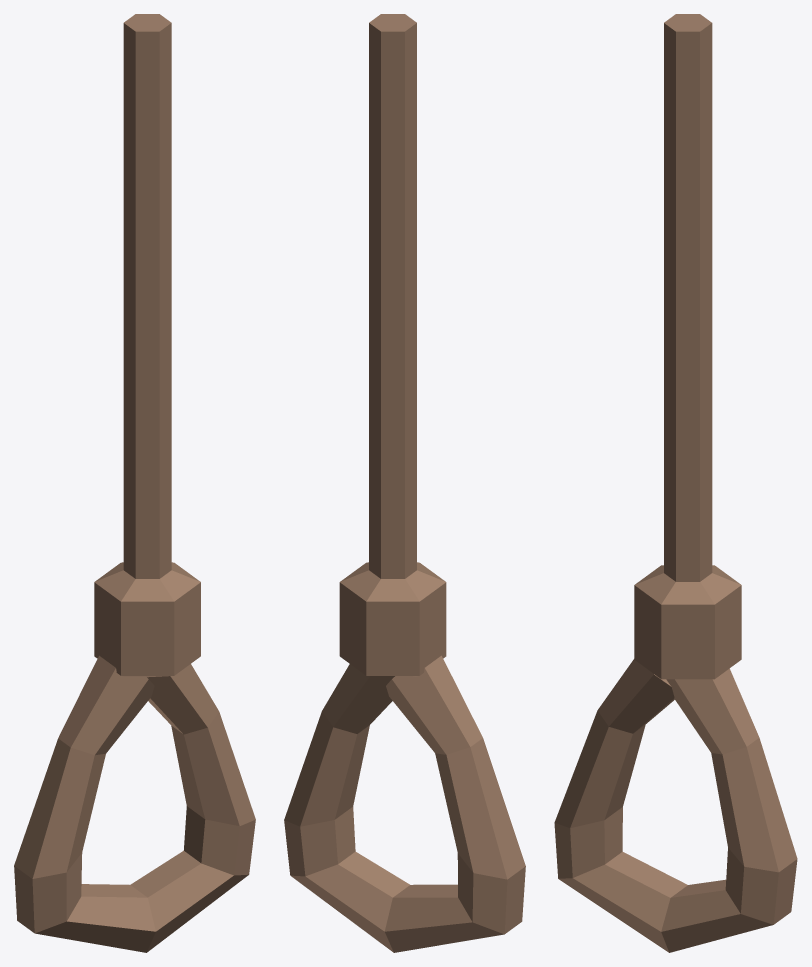
Rendered from hang_02 1.fbx.
3 renders of one model, left to right at view 1: azimuth 30°, elevation 25°; view 2: azimuth 150°, elevation 25°; view 3: azimuth 330°, elevation 25°, orthographic.
Parts seen in each view (by area): view 1: Cube.001; view 2: Cube.001; view 3: Cube.001.
Boxes of the visible parts, x1,y1,x2,y2 form: Cube.001: (14,14,255,952); Cube.001: (284,14,525,952); Cube.001: (554,14,797,952).
Size of the model in its own units: 99.07 by 390 by 41.03.
